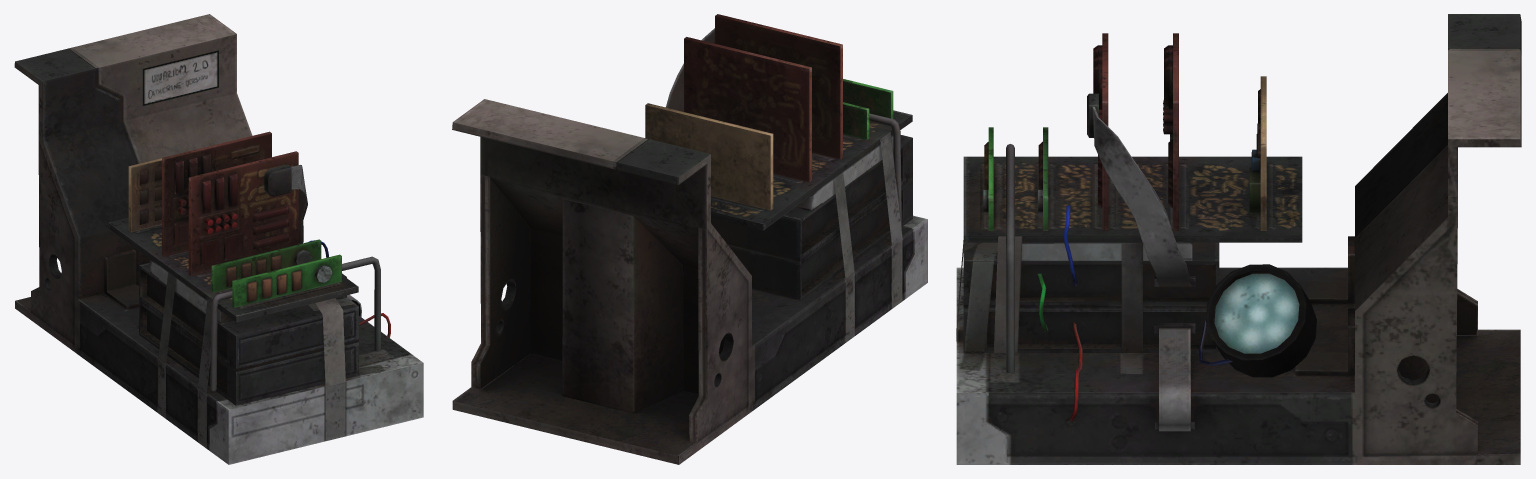
The model's file is chun_vivariumslice02.dae.
The picture shows the model from 3 angles, left to right: view 1: azimuth 30°, elevation 25°; view 2: azimuth 150°, elevation 25°; view 3: azimuth 270°, elevation 25°; orthographic projection. The views are drawn at different scales.
Visible parts, largest first — view 1: polymsh14; view 2: polymsh14; view 3: polymsh14.
Boxes of the visible parts, box(x1,y1,x2,y2) form: polymsh14: box(14, 14, 423, 464); polymsh14: box(452, 14, 927, 464); polymsh14: box(956, 14, 1521, 464).
Size of the model in its own units: 23.08 by 25.93 by 40.8.
